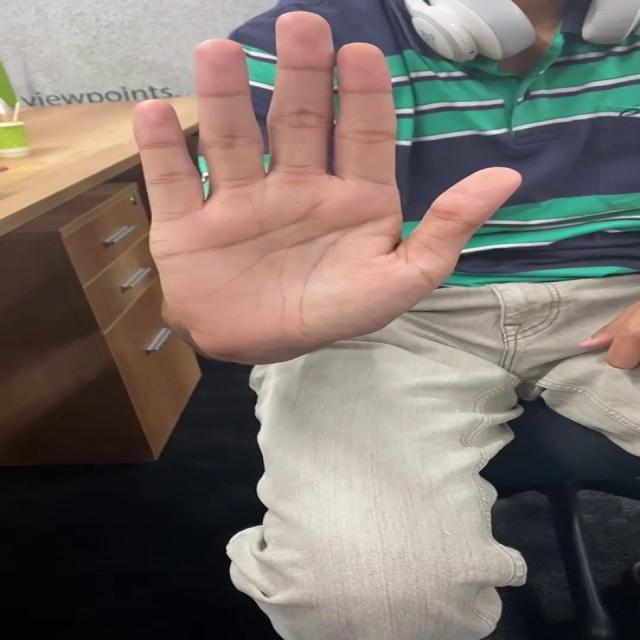no-gloves: (103, 1, 532, 370)
